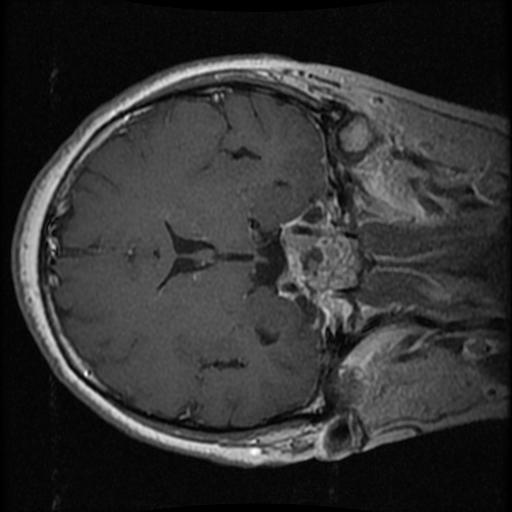pituitary tumour: (281, 234, 308, 284)
